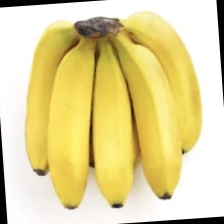banana: (19, 36, 184, 173)
